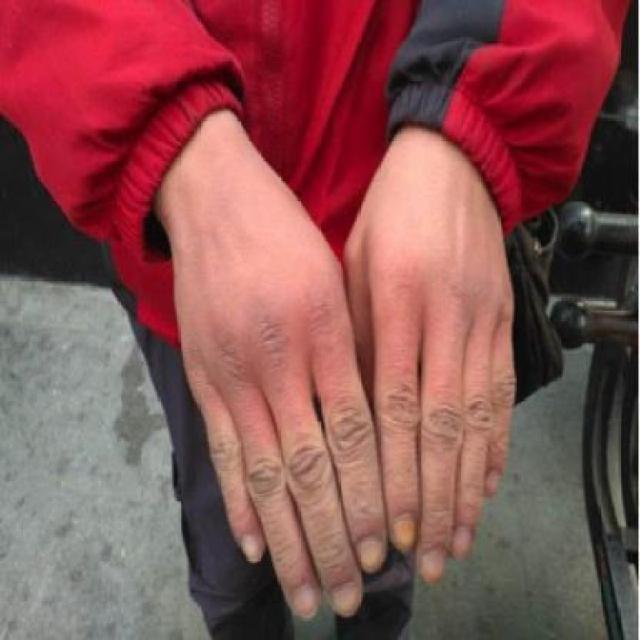hand_noglove: (165, 177, 388, 626), (342, 132, 520, 586)
